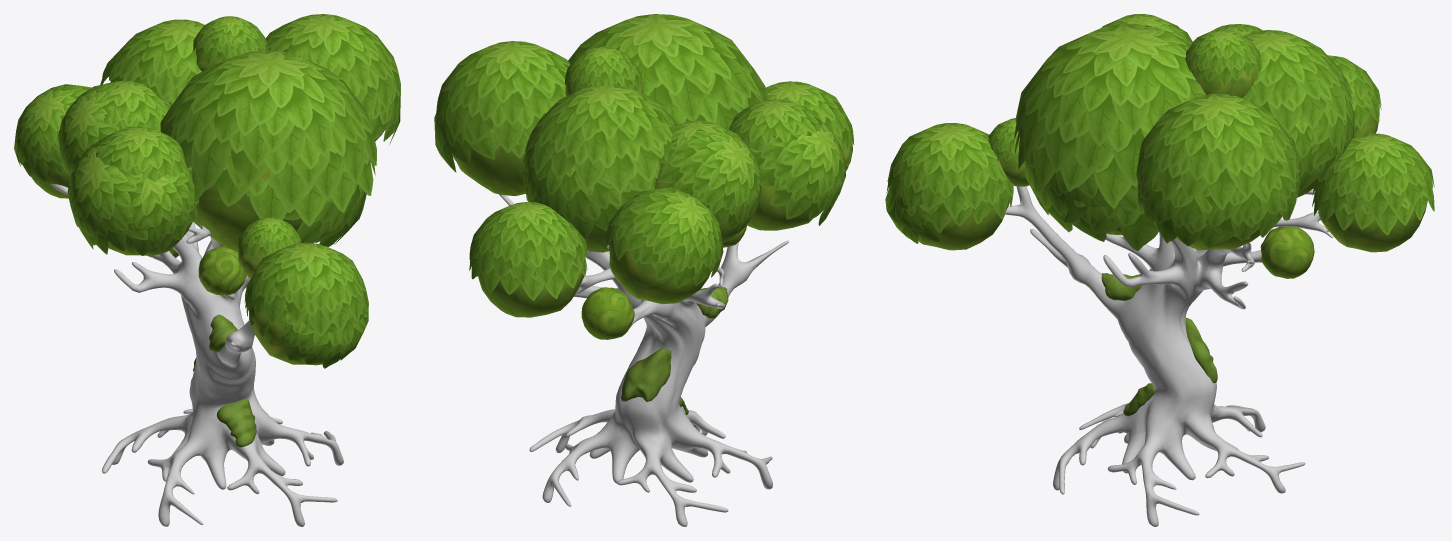
The model's file is biggest_tree_with_leafs-combine.fbx.
3 views of the same model, side by side, from view 1: azimuth 30°, elevation 25°; view 2: azimuth 150°, elevation 25°; view 3: azimuth 270°, elevation 25° (orthographic). The views are drawn at different scales.
Visible parts, largest first — view 1: Sphere.003, biggest_tree_retopo, Sphere.014, Sphere.008, Sphere.029, Sphere.018, Sphere.015, Sphere.026, Sphere.031, Sphere.016, Sphere.030, Sphere.025 (+13 smaller); view 2: biggest_tree_retopo, Sphere.003, Sphere.018, Sphere.008, Sphere.031, Sphere.010, Sphere.030, Sphere.029, Sphere.027, Sphere.016, leaf_sphare_lp.003, Sphere.009 (+10 smaller); view 3: biggest_tree_retopo, Sphere.003, Sphere.008, Sphere.014, Sphere.018, Sphere.010, Sphere.023, Sphere.024, Sphere.022, Sphere.009, Sphere.015, leaf_sphare_lp.009 (+14 smaller).
Boxes of the visible parts, box(x1,y1,x2,y2) form: Sphere.003: box(160, 50, 376, 209); biggest_tree_retopo: box(50, 183, 343, 526); Sphere.014: box(244, 242, 368, 336); Sphere.008: box(265, 14, 400, 117); Sphere.029: box(67, 137, 147, 254); Sphere.018: box(100, 19, 204, 105); Sphere.015: box(191, 148, 375, 226); Sphere.026: box(122, 172, 198, 255); Sphere.031: box(14, 84, 91, 182); Sphere.016: box(94, 126, 192, 182); Sphere.030: box(58, 83, 124, 175); Sphere.025: box(270, 308, 368, 368); biggest_tree_retopo: box(499, 194, 789, 526); Sphere.003: box(568, 14, 767, 129); Sphere.018: box(525, 86, 678, 193); Sphere.008: box(436, 41, 570, 152); Sphere.031: box(618, 187, 723, 288); Sphere.010: box(469, 202, 587, 285); Sphere.030: box(658, 125, 761, 233); Sphere.029: box(750, 121, 845, 225); Sphere.027: box(522, 144, 655, 238); Sphere.016: box(729, 99, 822, 151); leaf_sphare_lp.003: box(608, 239, 710, 303); Sphere.009: box(565, 46, 642, 93); biggest_tree_retopo: box(1004, 186, 1332, 526); Sphere.003: box(1013, 24, 1205, 186); Sphere.008: box(1136, 93, 1298, 209); Sphere.014: box(886, 123, 1013, 219); Sphere.018: box(1242, 30, 1352, 133); Sphere.010: box(1312, 133, 1434, 220); Sphere.023: box(1201, 157, 1300, 245); Sphere.024: box(1136, 164, 1250, 248); Sphere.022: box(1024, 136, 1142, 241); Sphere.009: box(1185, 29, 1261, 86); Sphere.015: box(1014, 123, 1131, 208); leaf_sphare_lp.009: box(1260, 226, 1314, 278).
Size of the model in its own units: 2657 by 3216 by 3492.
